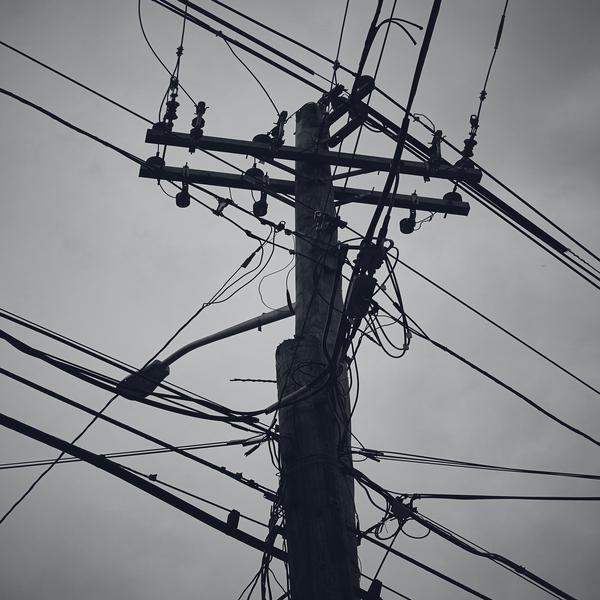utility_pole: (107, 46, 496, 432)
